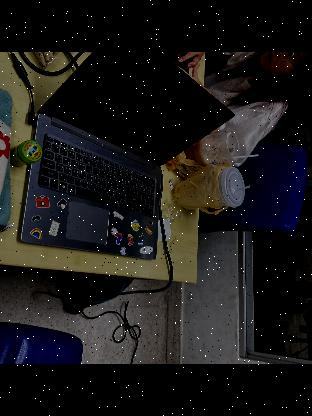Others: (172, 164, 226, 214), (182, 126, 246, 168), (166, 145, 202, 183), (154, 217, 172, 243), (218, 132, 230, 148), (228, 153, 258, 159), (234, 184, 250, 192)
